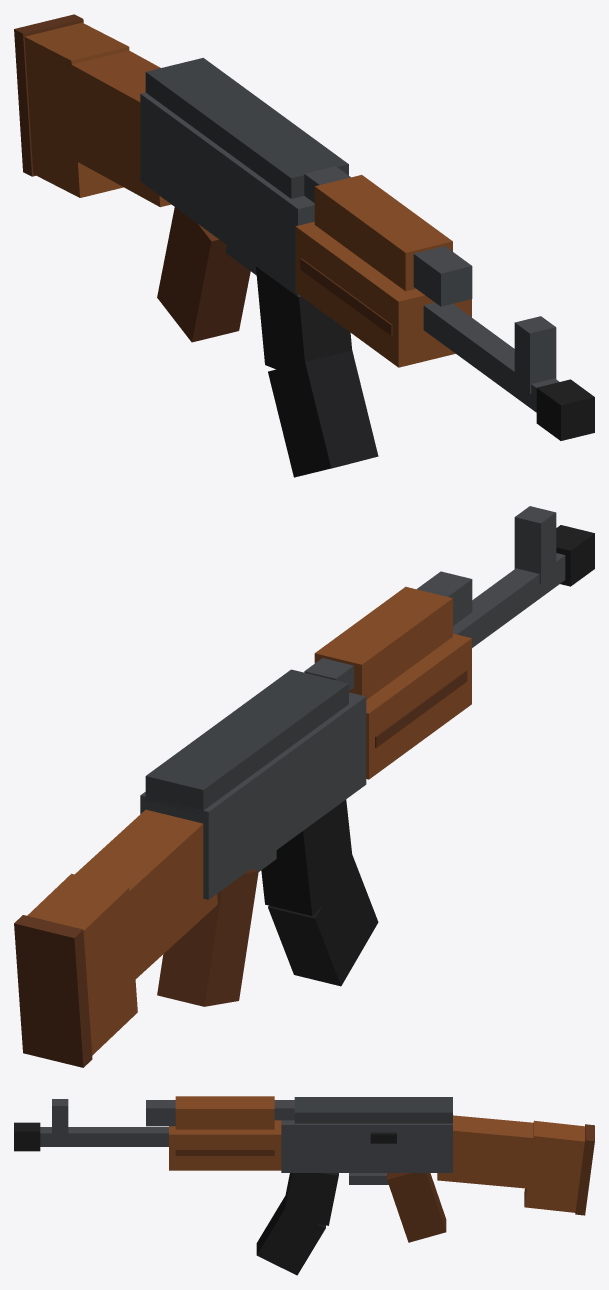
Rendered from gun-ak47.glb.
3 views of the same model, one above another, from view 1: azimuth 30°, elevation 25°; view 2: azimuth 150°, elevation 25°; view 3: azimuth 270°, elevation 25° (orthographic). The views are drawn at different scales.
Parts seen in each view (by area): view 1: ak47; view 2: ak47; view 3: ak47.
Part boxes in pixels (left/top/right/bottom): ak47: left=14, top=14, right=594, bottom=477; ak47: left=14, top=506, right=594, bottom=1067; ak47: left=14, top=1096, right=594, bottom=1275.
Bounding box in the file's own units: 0.1525 × 0.5575 × 1.76.
